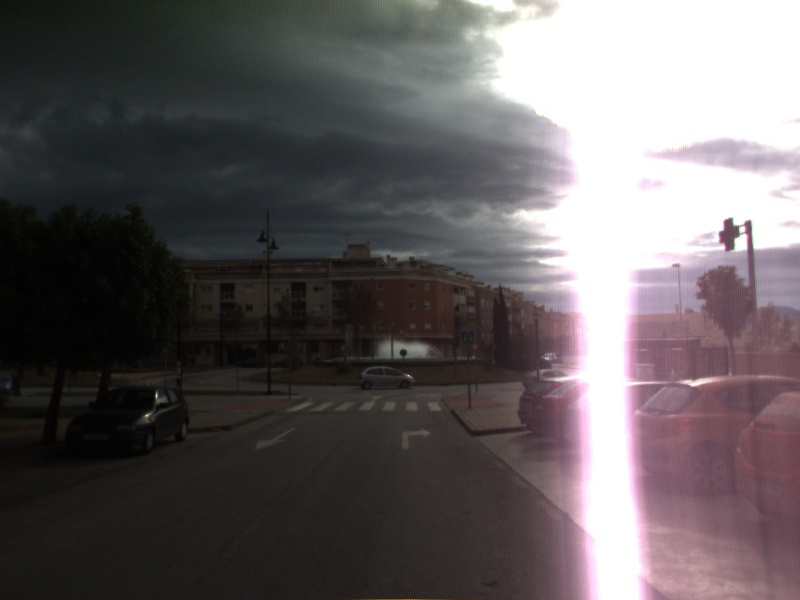RIGHT: (399, 426, 434, 451)
